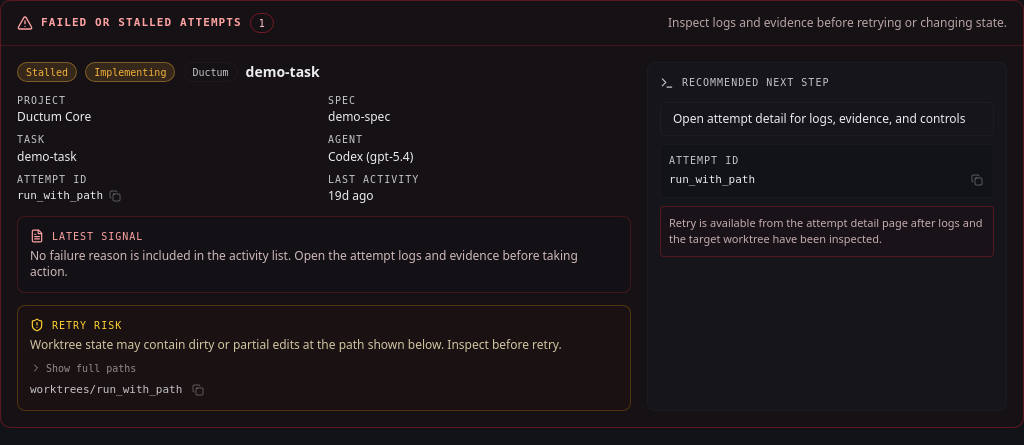
NeedsOperatorSection › shortens retry-risk paths by default but keeps raw paths available
The image size is (1024, 445).
Expected: the text "worktrees/run_with_path" is shown, [30,382,182,398]
Expected: the text "/tmp/ductum/worktrees/run_with_path" is not shown
What coordinates should you click on to do the following:
click the button "Show full paths"
I would click on:
 (83, 368)
Its box is [30,361,136,376].
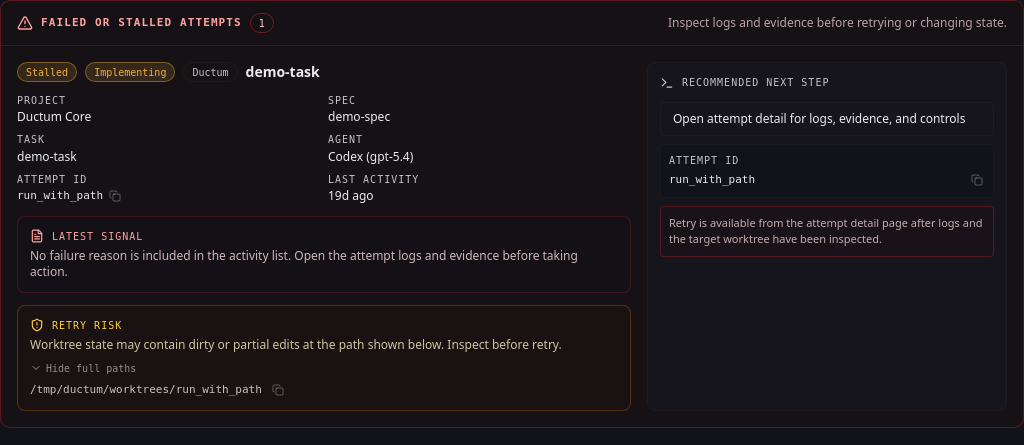
Expected: the text "/tmp/ductum/worktrees/run_with_path" is shown, [30,382,262,398]
